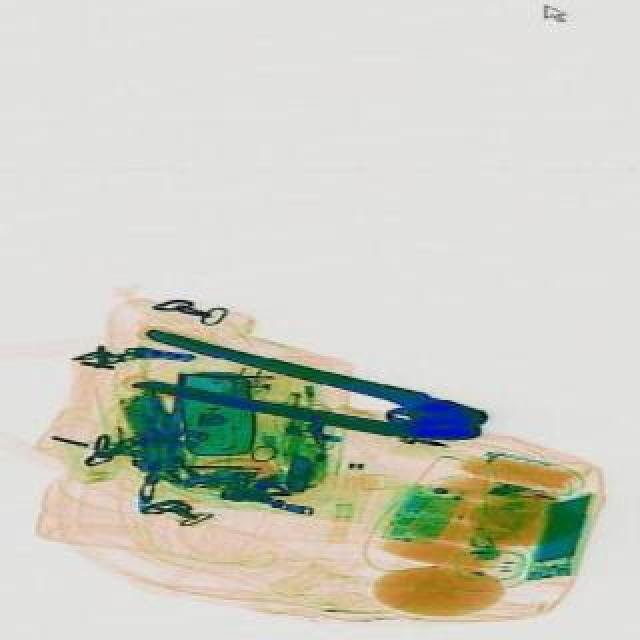wrench: (128, 328, 488, 456)
